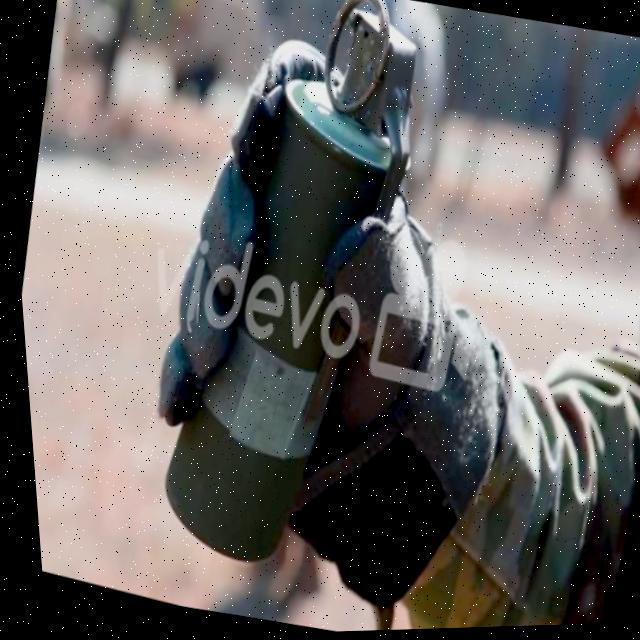grenade: (101, 0, 475, 599)
